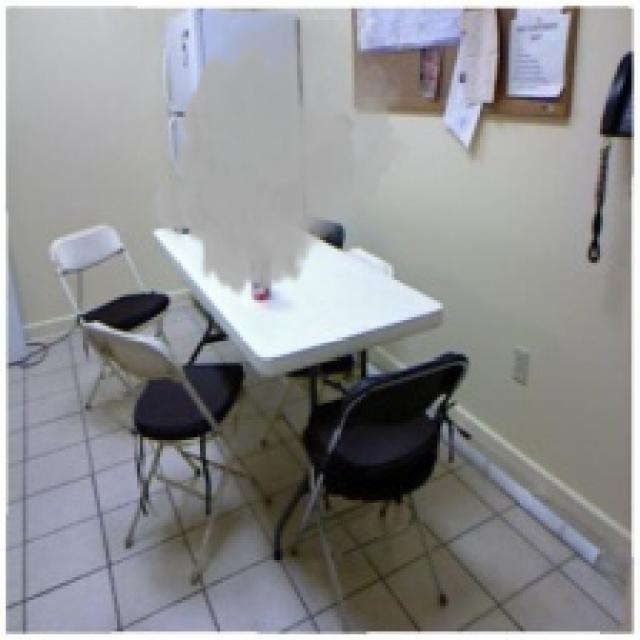smoke: (152, 20, 412, 300)
